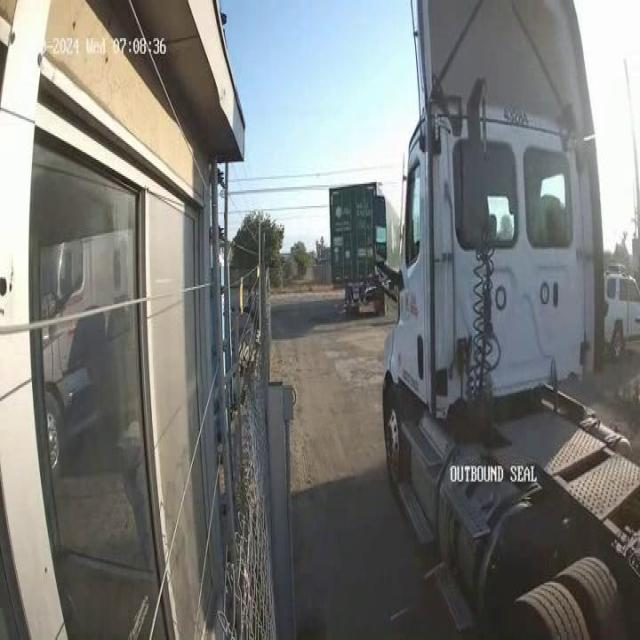BOBTAIL: (372, 1, 640, 640)
TRUCK_CONTAINER: (327, 186, 388, 314)
